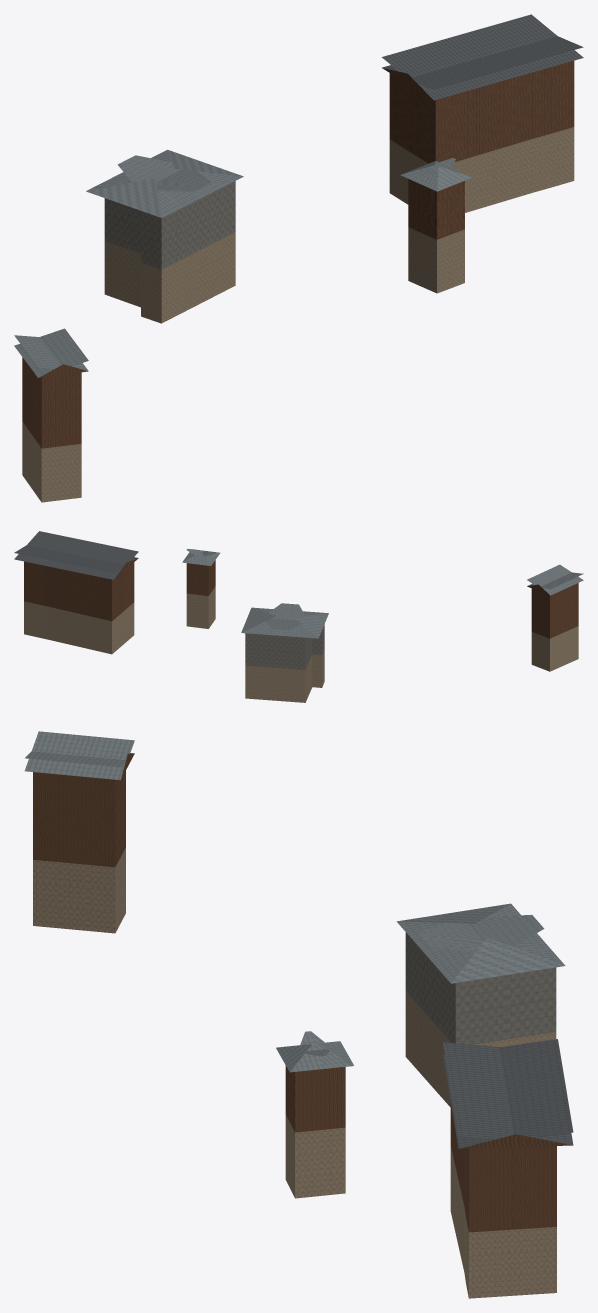
File: bld_c5_9_477.gltf
3 renders of one model, top to bottom at view 1: azimuth 30°, elevation 25°; view 2: azimuth 150°, elevation 25°; view 3: azimuth 270°, elevation 25°, orthographic. The views are drawn at different scales.
Visible parts, largest first — view 1: bld_c5_9_477; view 2: bld_c5_9_477; view 3: bld_c5_9_477.
Part boxes in pixels (<box>): bld_c5_9_477: <box>14,14,583,502</box>; bld_c5_9_477: <box>14,531,583,702</box>; bld_c5_9_477: <box>24,731,573,1298</box>.
Bounding box in the file's own units: 70.97 × 15 × 38.36.
6 materials, 6 textured.
